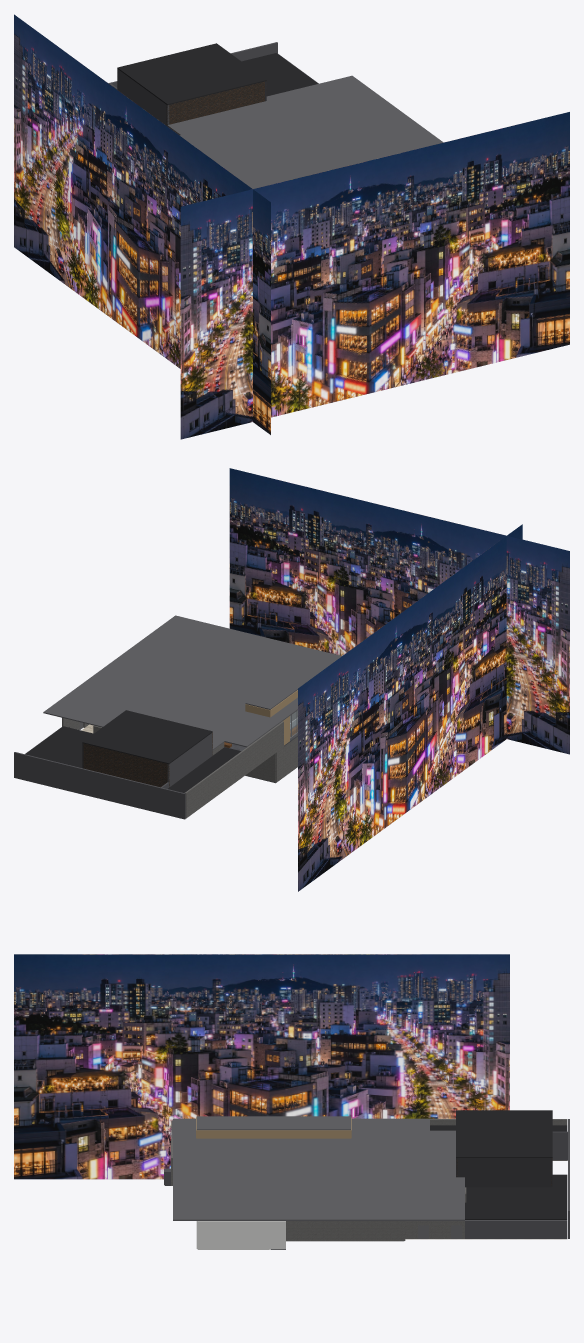
Rendered from cinema.glb.
3 renders of one model, top to bottom at view 1: azimuth 30°, elevation 25°; view 2: azimuth 150°, elevation 25°; view 3: azimuth 270°, elevation 25°, orthographic. The views are drawn at different scales.
Parts seen in each view (by area): view 1: BG_city_s, BG_city, STATIC_ceiling_gray_c0f0, STATIC_ceiling_dark_c0f0, STATIC_wall_theater_c1f0, STATIC_wall_charcoal_c1f0; view 2: BG_city_s, BG_city, STATIC_ceiling_gray_c0f0, STATIC_ceiling_dark_c0f0, STATIC_wall_charcoal_c1f0, STATIC_wall_stone_c1f0, STATIC_wall_theater_c1f0, STATIC_wall_stone_c0f0; view 3: BG_city, STATIC_ceiling_gray_c0f0, STATIC_ceiling_dark_c0f0, STATIC_wall_stone_c1f0, STATIC_wall_dark_c1f0, STATIC_wall_charcoal_c1f0, STATIC_wall_white_c1f0, STATIC_bronze_c0f0.
Boxes of the visible parts, x1,y1,x2,y2 form: BG_city_s: (180, 112, 569, 439); BG_city: (14, 14, 270, 434); STATIC_ceiling_gray_c0f0: (167, 75, 443, 188); STATIC_ceiling_dark_c0f0: (117, 43, 318, 105); STATIC_wall_theater_c1f0: (117, 72, 266, 125); STATIC_wall_charcoal_c1f0: (108, 42, 318, 126); BG_city_s: (229, 468, 569, 754); BG_city: (298, 524, 522, 891); STATIC_ceiling_gray_c0f0: (43, 615, 341, 750); STATIC_ceiling_dark_c0f0: (25, 710, 241, 792); STATIC_wall_charcoal_c1f0: (14, 727, 212, 819); STATIC_wall_stone_c1f0: (62, 718, 283, 818); STATIC_wall_theater_c1f0: (82, 732, 212, 787); STATIC_wall_stone_c0f0: (93, 710, 297, 782); BG_city: (14, 954, 509, 1179); STATIC_ceiling_gray_c0f0: (173, 1116, 464, 1220); STATIC_ceiling_dark_c0f0: (430, 1110, 567, 1219); STATIC_wall_stone_c1f0: (171, 1119, 567, 1241); STATIC_wall_dark_c1f0: (456, 1158, 552, 1187); STATIC_wall_charcoal_c1f0: (465, 1119, 569, 1238); STATIC_wall_white_c1f0: (196, 1221, 285, 1249); STATIC_bronze_c0f0: (196, 1117, 351, 1138).
Bounding box in the file's own units: 70 × 40 × 89.69.
Materials: 61 (30 with a texture image).
